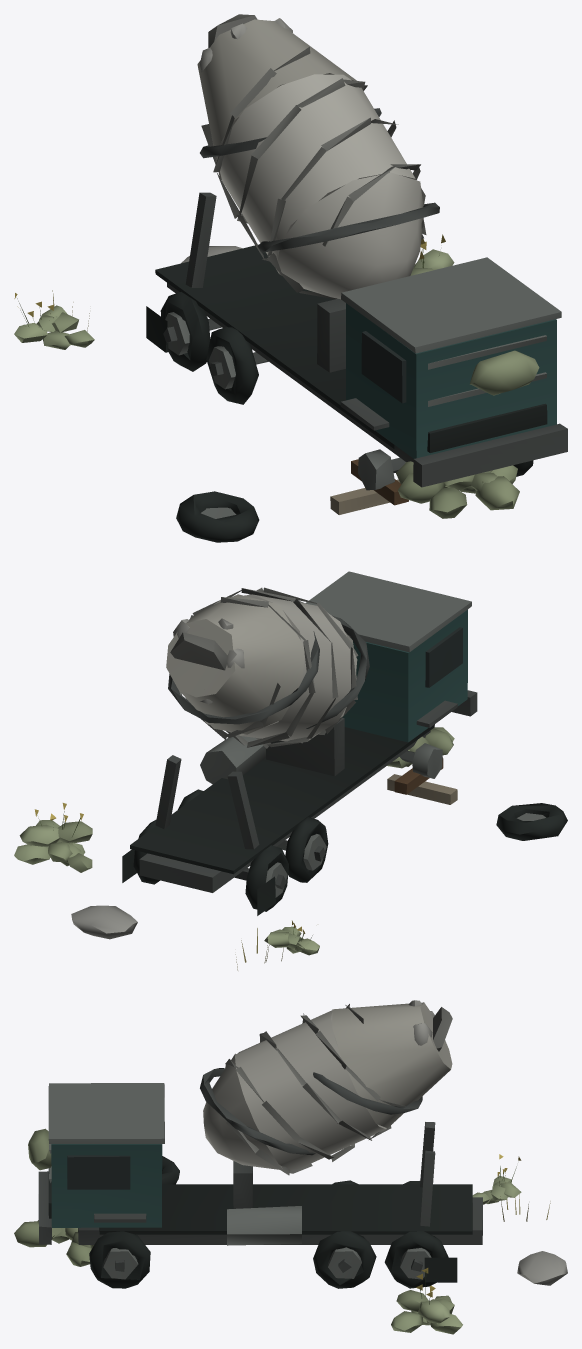
The model's file is mixer_wreck_b_lod2.glb.
The picture shows the model from 3 angles, top to bottom: view 1: azimuth 30°, elevation 25°; view 2: azimuth 150°, elevation 25°; view 3: azimuth 270°, elevation 25°; orthographic projection. The views are drawn at different scales.
Visible parts, largest first — view 1: Surface.001; view 2: Surface.001; view 3: Surface.001.
Part boxes in pixels (bbox=[...]): Surface.001: bbox=[14, 14, 567, 542]; Surface.001: bbox=[14, 571, 567, 970]; Surface.001: bbox=[14, 1000, 567, 1334].
Size of the model in its own units: 8.6 by 5.91 by 11.4.
